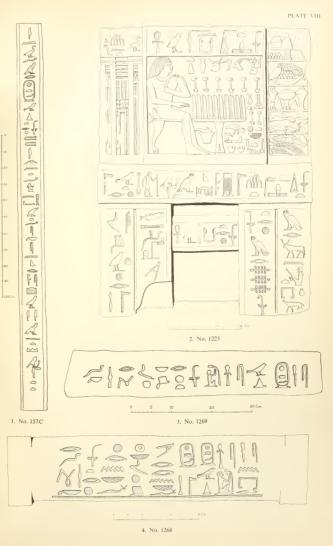circle: (177, 440, 198, 471), (273, 359, 292, 393), (198, 440, 216, 467), (22, 80, 37, 103)
